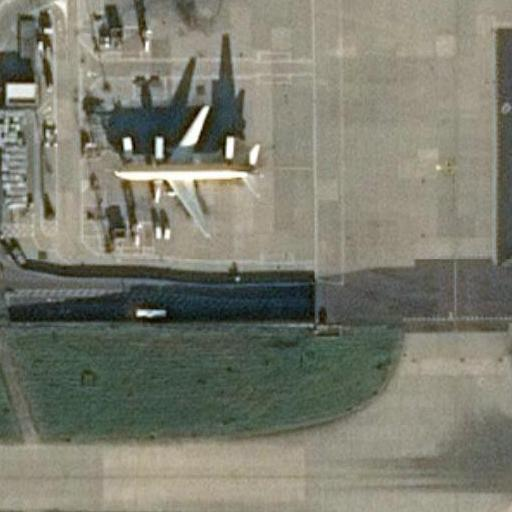Aircraft: (109, 98, 262, 235), (112, 95, 261, 230)
